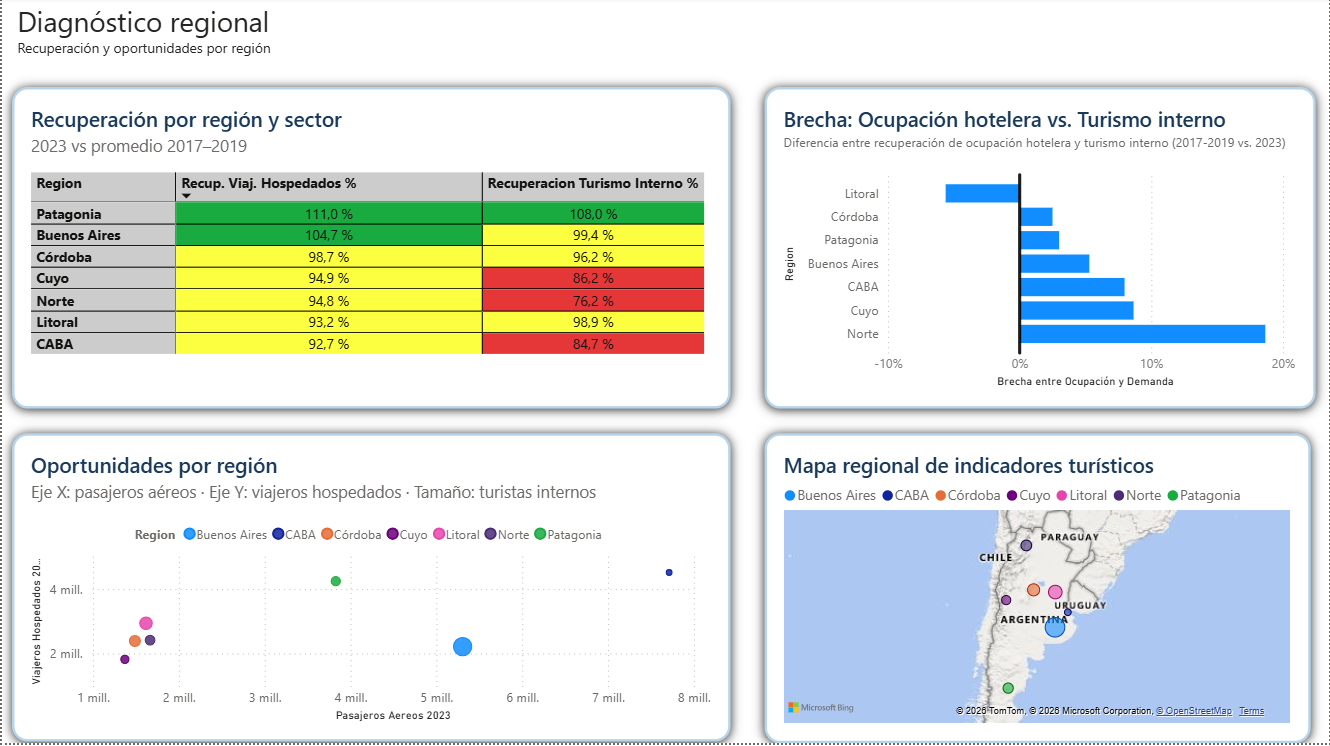

The page's visual inventory and layout, read from the dashboard file:
{"tool":"powerbi","page":{"name":"Diagnóstico","canvas":[1280,720],"ordinal":1},"visuals":[{"type":"textbox","box":[10.1,0,363.8,86.7],"z":0},{"type":"pivotTable","title":"Recuperación por región y sector","fields":{"Rows":["DIM_Region.Region"],"Values":["MEDIDAS_Hoteleria.Recuperación Viajeros %","MEDIDAS_TurismoInterno.Recuperacion Turismo Interno %"]},"box":[9.7,86.9,693.7,310.1],"z":1000},{"type":"scatterChart","title":"Oportunidades por región","fields":{"Series":["DIM_Region.Region"],"Size":["MEDIDAS_TurismoInterno.Turistas Internos 2023"],"X":["MEDIDAS_Vuelos.Pasajeros Aereos 2023"],"Y":["MEDIDAS_Hoteleria.Viajeros 2023"]},"box":[9.7,421,693.7,298],"z":2000},{"type":"map","title":"Mapa regional de indicadores turísticos","fields":{"Series":["DIM_Region.Region"],"Size":["MEDIDAS_Diagnostico.Valor Indicador Mapa"],"X":["DIM_Region.Longitud"],"Y":["DIM_Region.Latitud"]},"box":[735.9,421,527.2,299.2],"z":3000},{"type":"clusteredBarChart","title":"Brecha: Ocupación hotelera vs. Turismo interno","fields":{"Category":["DIM_Region.Region"],"Y":["MEDIDAS_Diagnostico.Brecha_Conectividad_TurismoInterno"]},"box":[735.9,86.9,532,310.1],"z":5000}]}

Visuals, with their boxes in screenshot pixels (x1, y1, x2, y2), scaled from the page's 1280x720 canvas onto the 1330x746 screenshot:
textbox: x1=10, y1=0, x2=389, y2=90
"Recuperación por región y sector" pivotTable: x1=10, y1=90, x2=731, y2=411
"Oportunidades por región" scatterChart: x1=10, y1=436, x2=731, y2=745
"Mapa regional de indicadores turísticos" map: x1=765, y1=436, x2=1312, y2=745
"Brecha: Ocupación hotelera vs. Turismo interno" clusteredBarChart: x1=765, y1=90, x2=1317, y2=411
